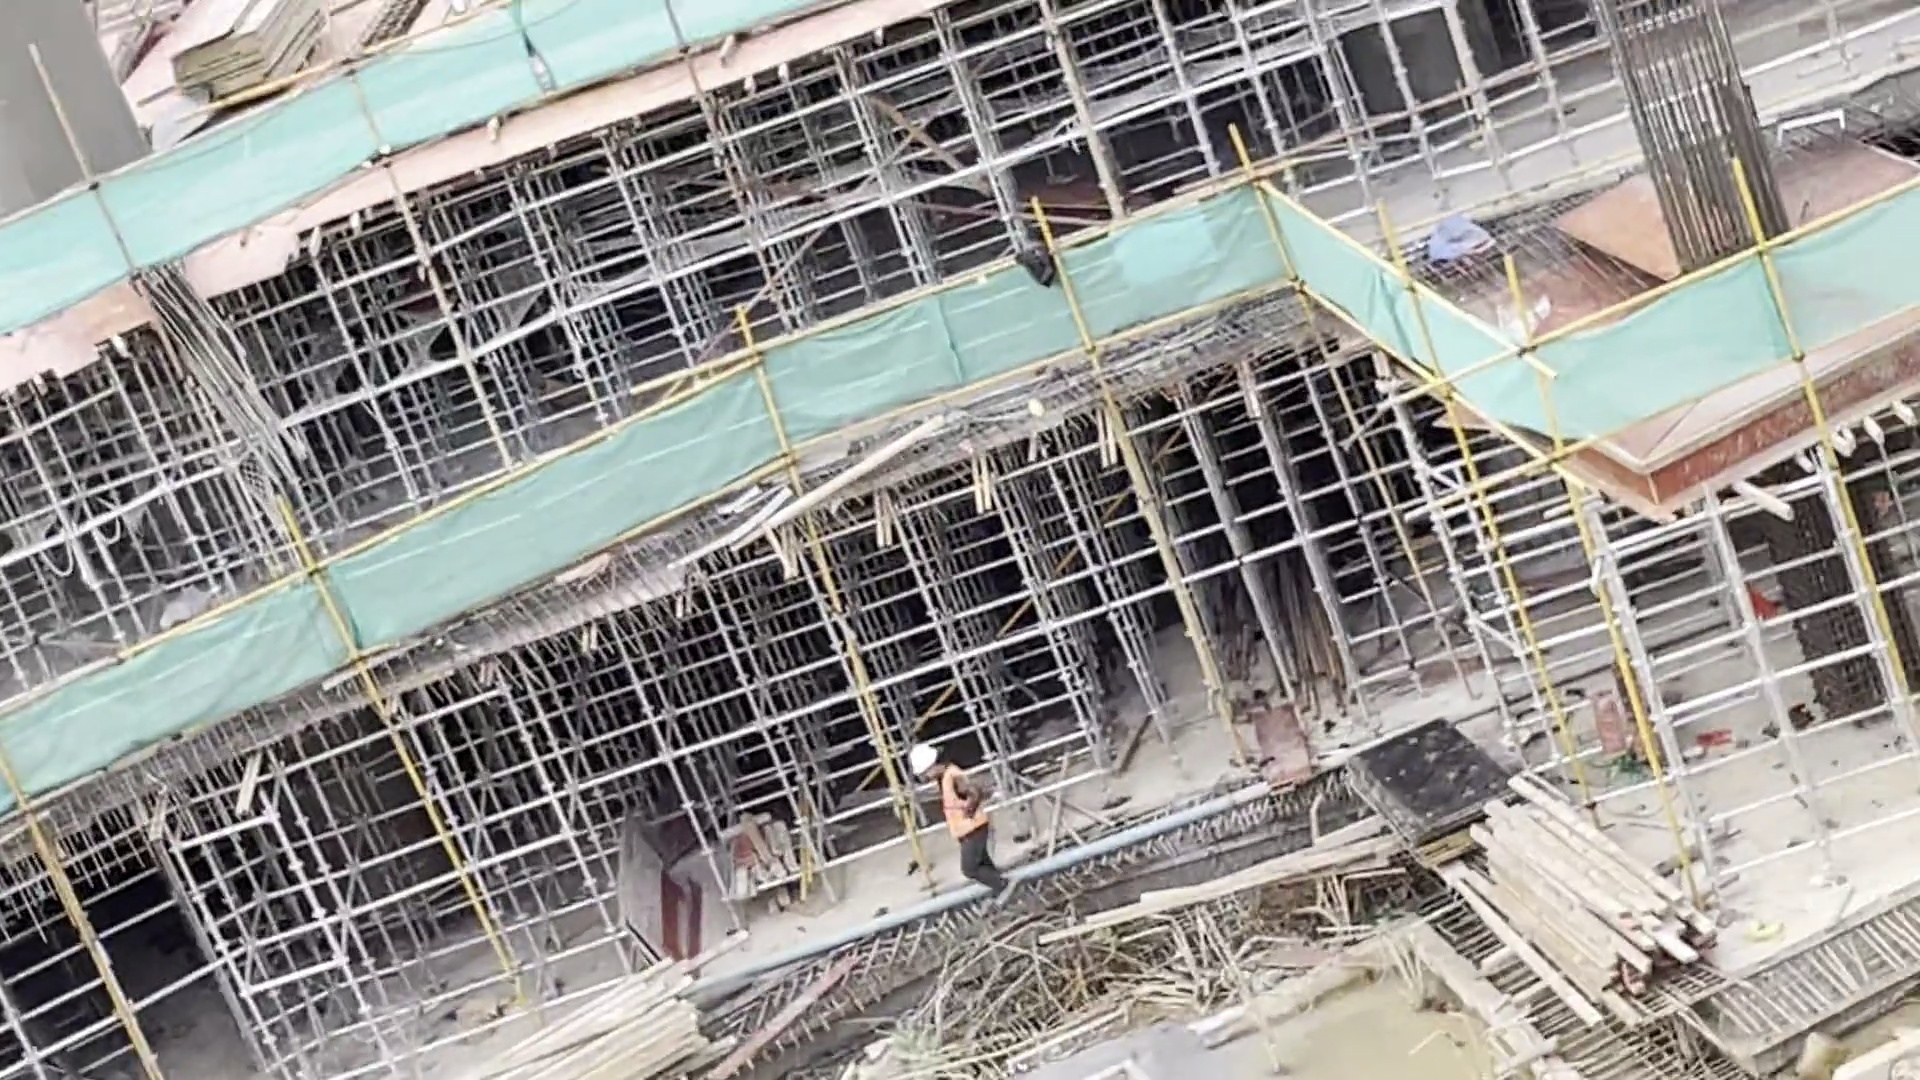board: (1331, 717, 1511, 859), (166, 1, 327, 117)
helmet: (909, 741, 938, 776)
person: (911, 741, 1011, 901)
vest: (935, 763, 987, 841)
wood: (1449, 768, 1718, 1010)
